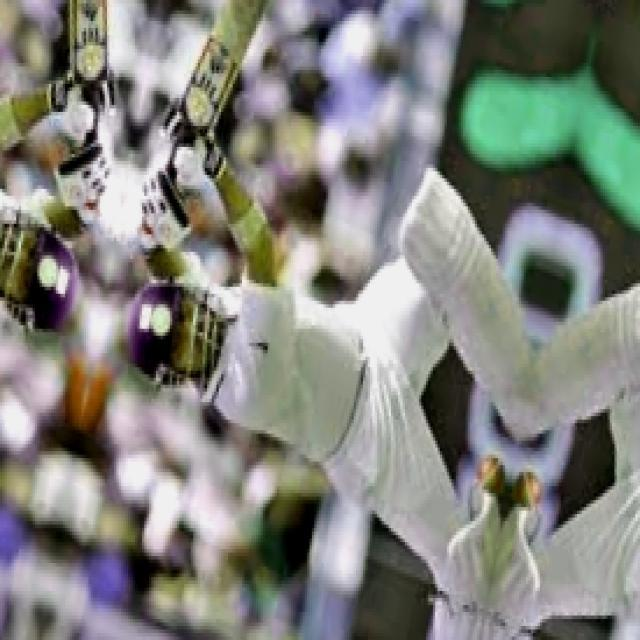bat: (180, 0, 270, 136)
